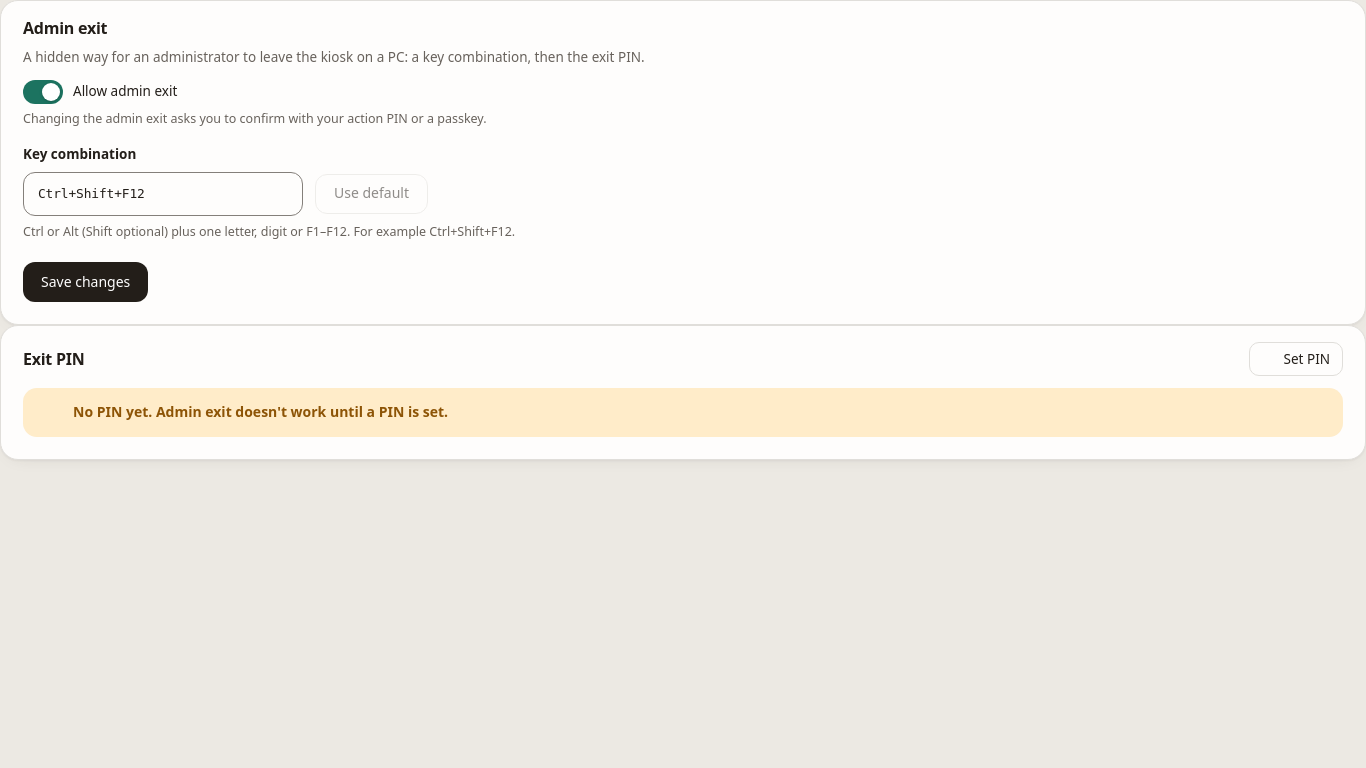
Test case: Settings → Admin exit (settings:get / update / setExitPin / clearExitPin) › a valid one is sent in canonical form with the loaded revision; the server's refusal shows under the field
The image size is (1366, 768).
Replace the text in the field labelled "Key combination" with "alt + f4": (163, 194) [23,172,303,216]
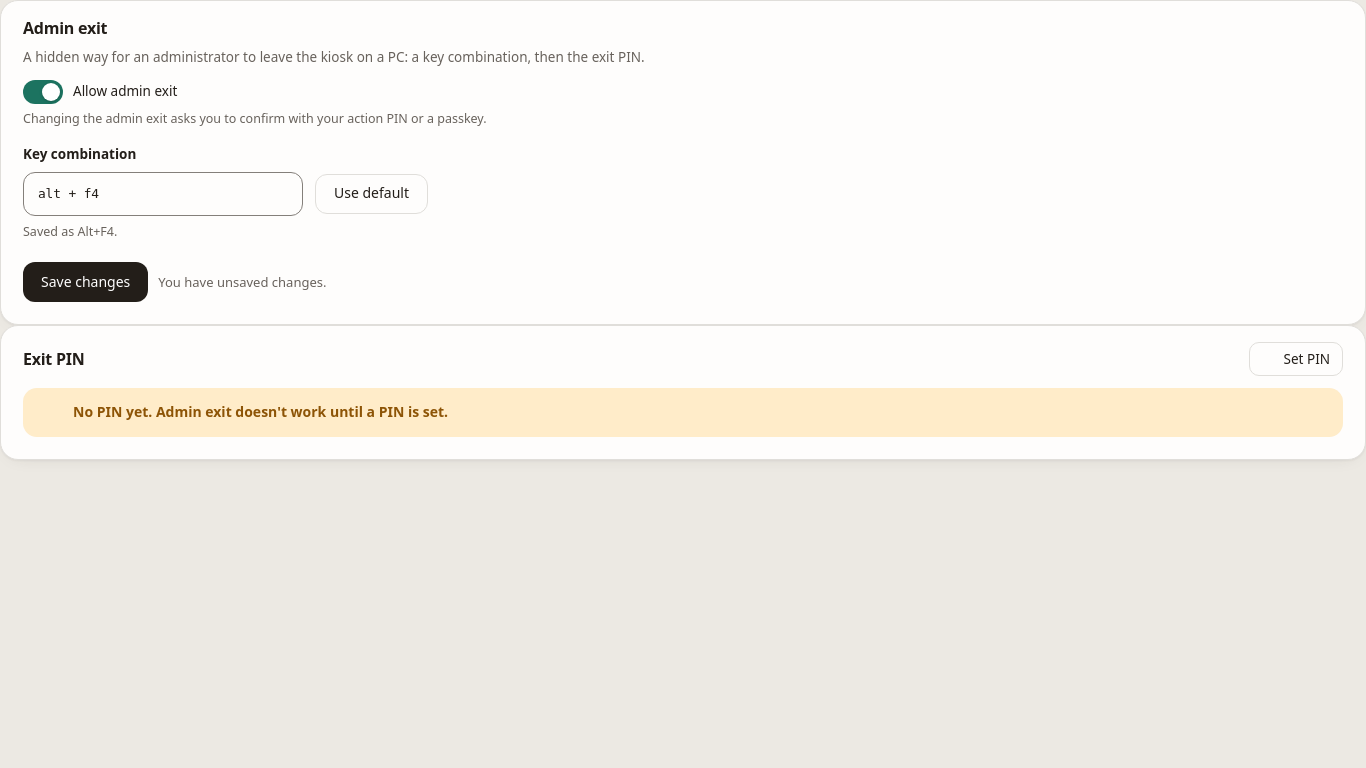
Click the button "Save changes": (86, 282) [23,262,148,302]
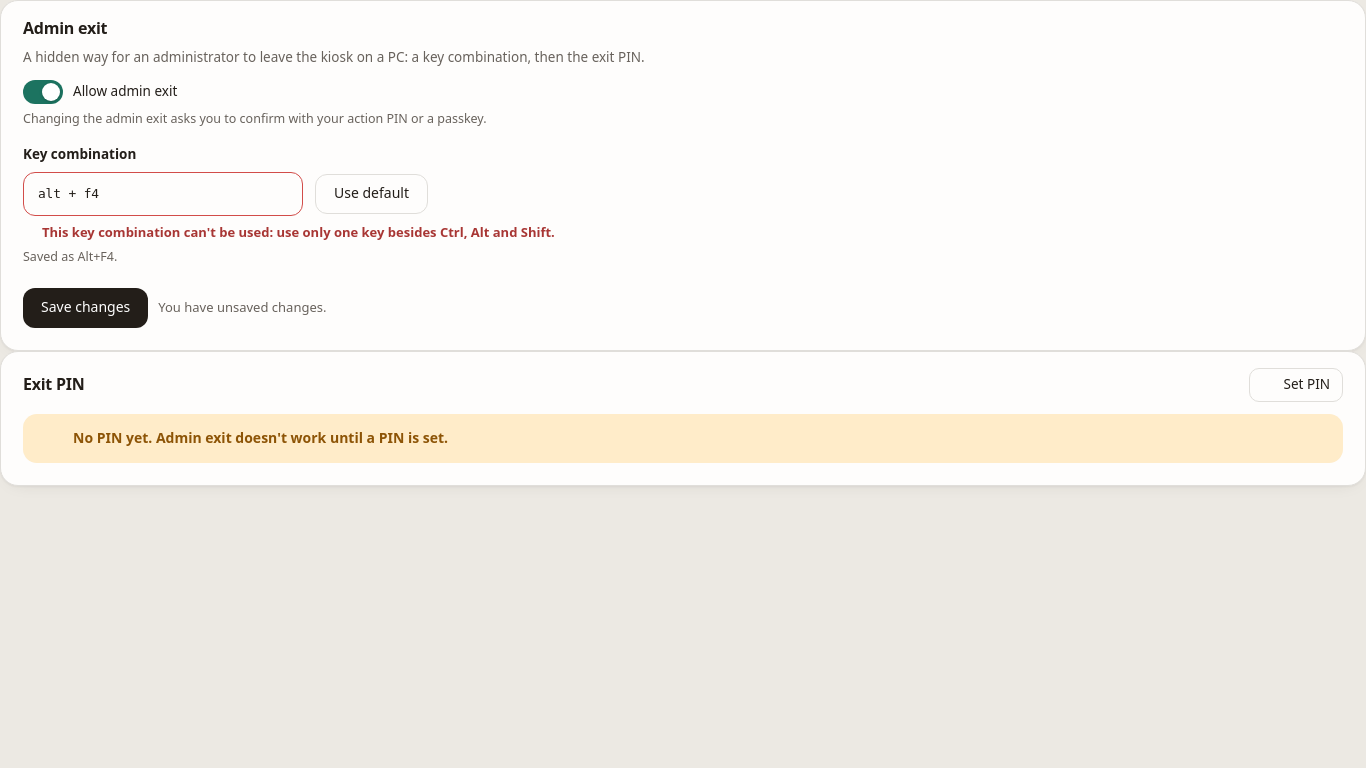
Now the text "use only one key besides Ctrl, Alt and Shift" is shown, box [42,223,555,241]
Click the button "Save changes": (86, 308) [23,288,148,328]
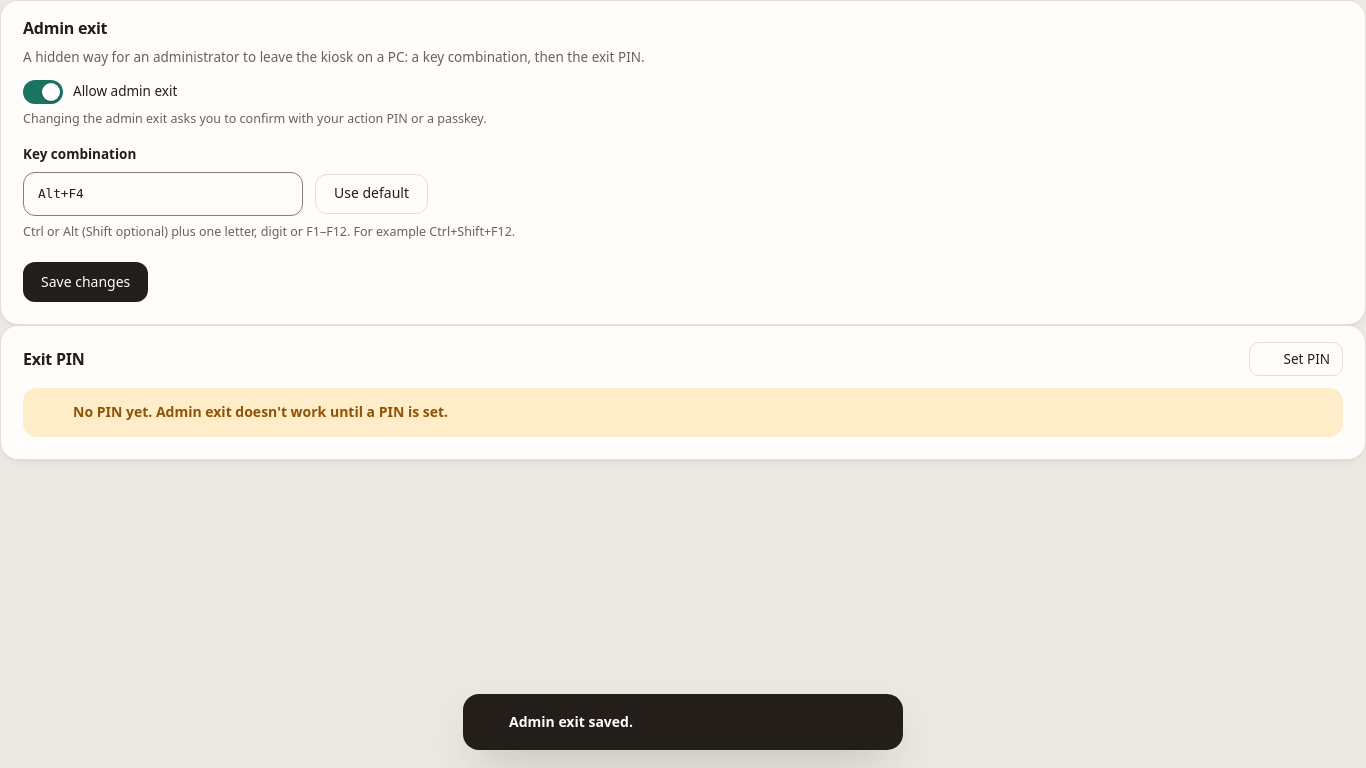
Now the text "Admin exit saved." is shown, box [509,712,633,731]
